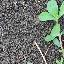Purslane: (12, 0, 64, 64)
